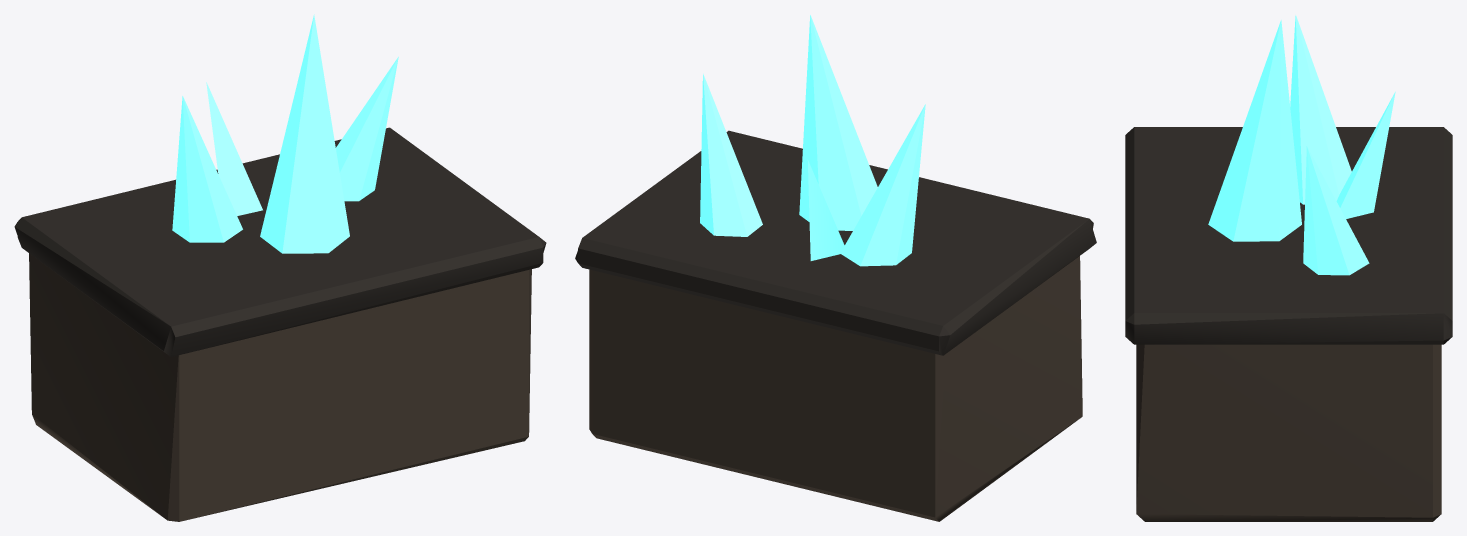
Rendered from crystal_crate_lod1.glb.
3 renders of one model, left to right at view 1: azimuth 30°, elevation 25°; view 2: azimuth 150°, elevation 25°; view 3: azimuth 270°, elevation 25°, orthographic. The views are drawn at different scales.
Parts seen in each view (by area): view 1: prop.crystal_crate; view 2: prop.crystal_crate; view 3: prop.crystal_crate.
Boxes of the visible parts, <box> form: prop.crystal_crate: <box>14,14,546,521</box>; prop.crystal_crate: <box>575,15,1096,521</box>; prop.crystal_crate: <box>1125,15,1452,521</box>.
Size of the model in its own units: 0.8697 by 0.9 by 0.6212.
